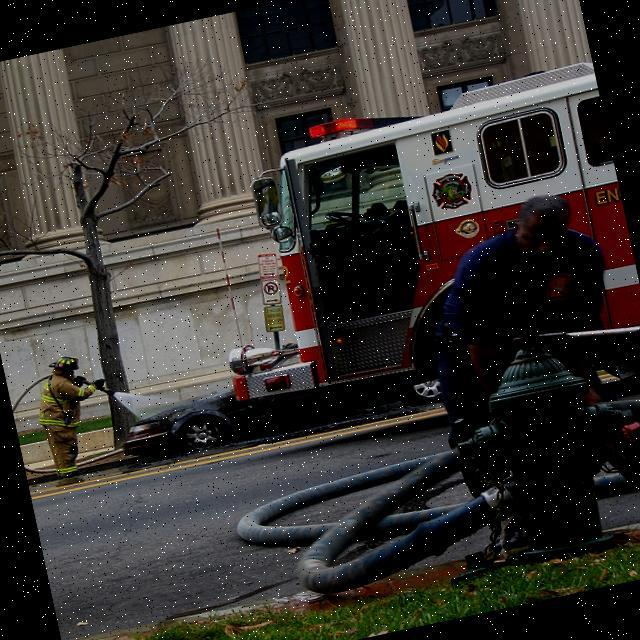fire_hydrant: (435, 317, 640, 576)
